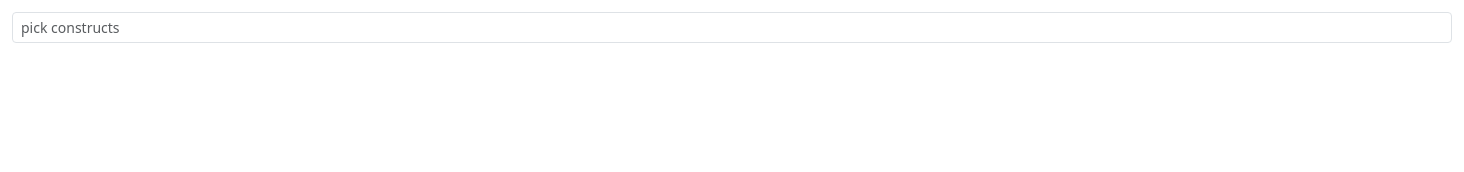
ConceptPicker › as a blacklist/whitelist picker › uses the given placeholder and new-name hint
This screenshot has width=1464, height=172.
Type "goto" into the dropdown with placeholder "pick constructs" at (732, 28), box left=12, top=12, right=1452, bottom=43
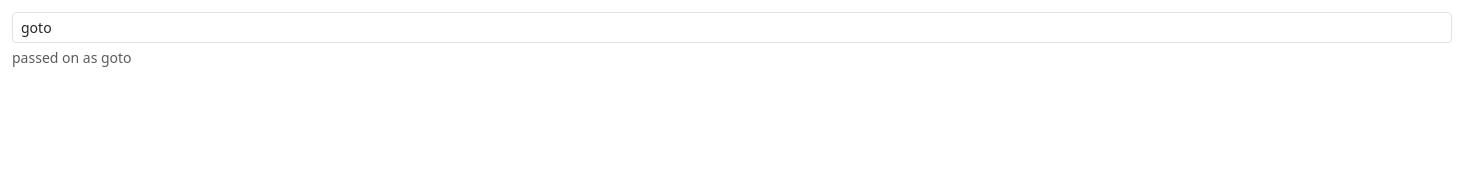
Check: the text "passed on as goto" is shown, box left=12, top=48, right=132, bottom=67
